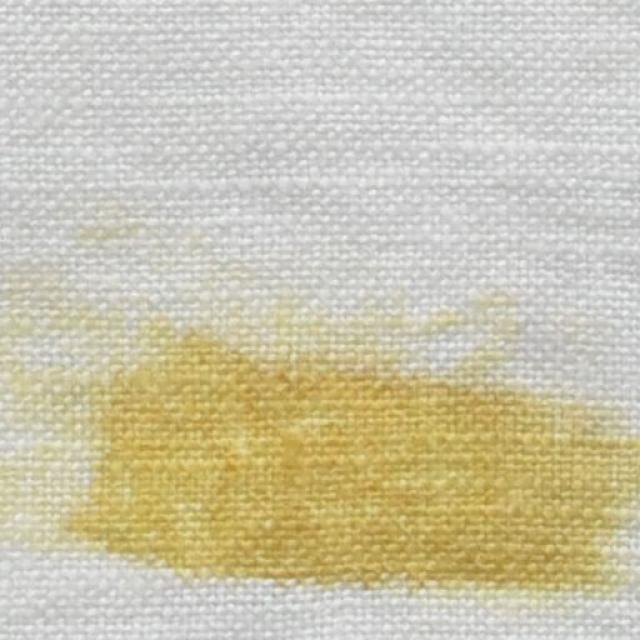Stain: (70, 338, 640, 586)
